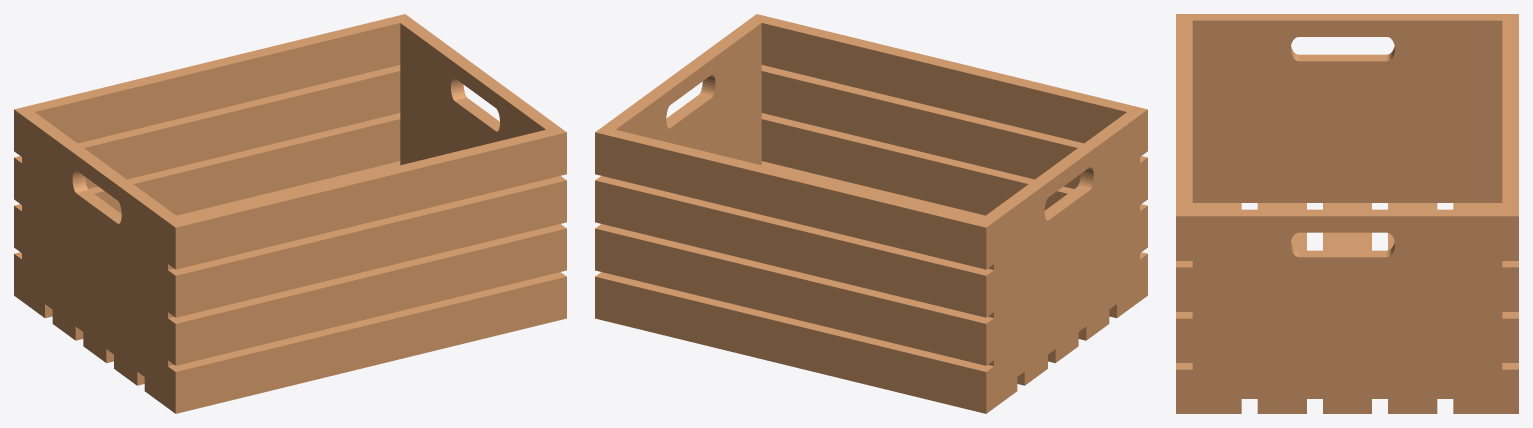
Rendered from crate_01.fbx.
The picture shows the model from 3 angles, left to right: view 1: azimuth 30°, elevation 25°; view 2: azimuth 150°, elevation 25°; view 3: azimuth 270°, elevation 25°; orthographic projection. The views are drawn at different scales.
Parts seen in each view (by area): view 1: crate_01; view 2: crate_01; view 3: crate_01.
Boxes of the visible parts, x1,y1,x2,y2 form: crate_01: (14,14,566,413); crate_01: (595,14,1147,413); crate_01: (1176,14,1518,413).
Bounding box in the file's own units: 66.86 × 30.41 × 47.86.
